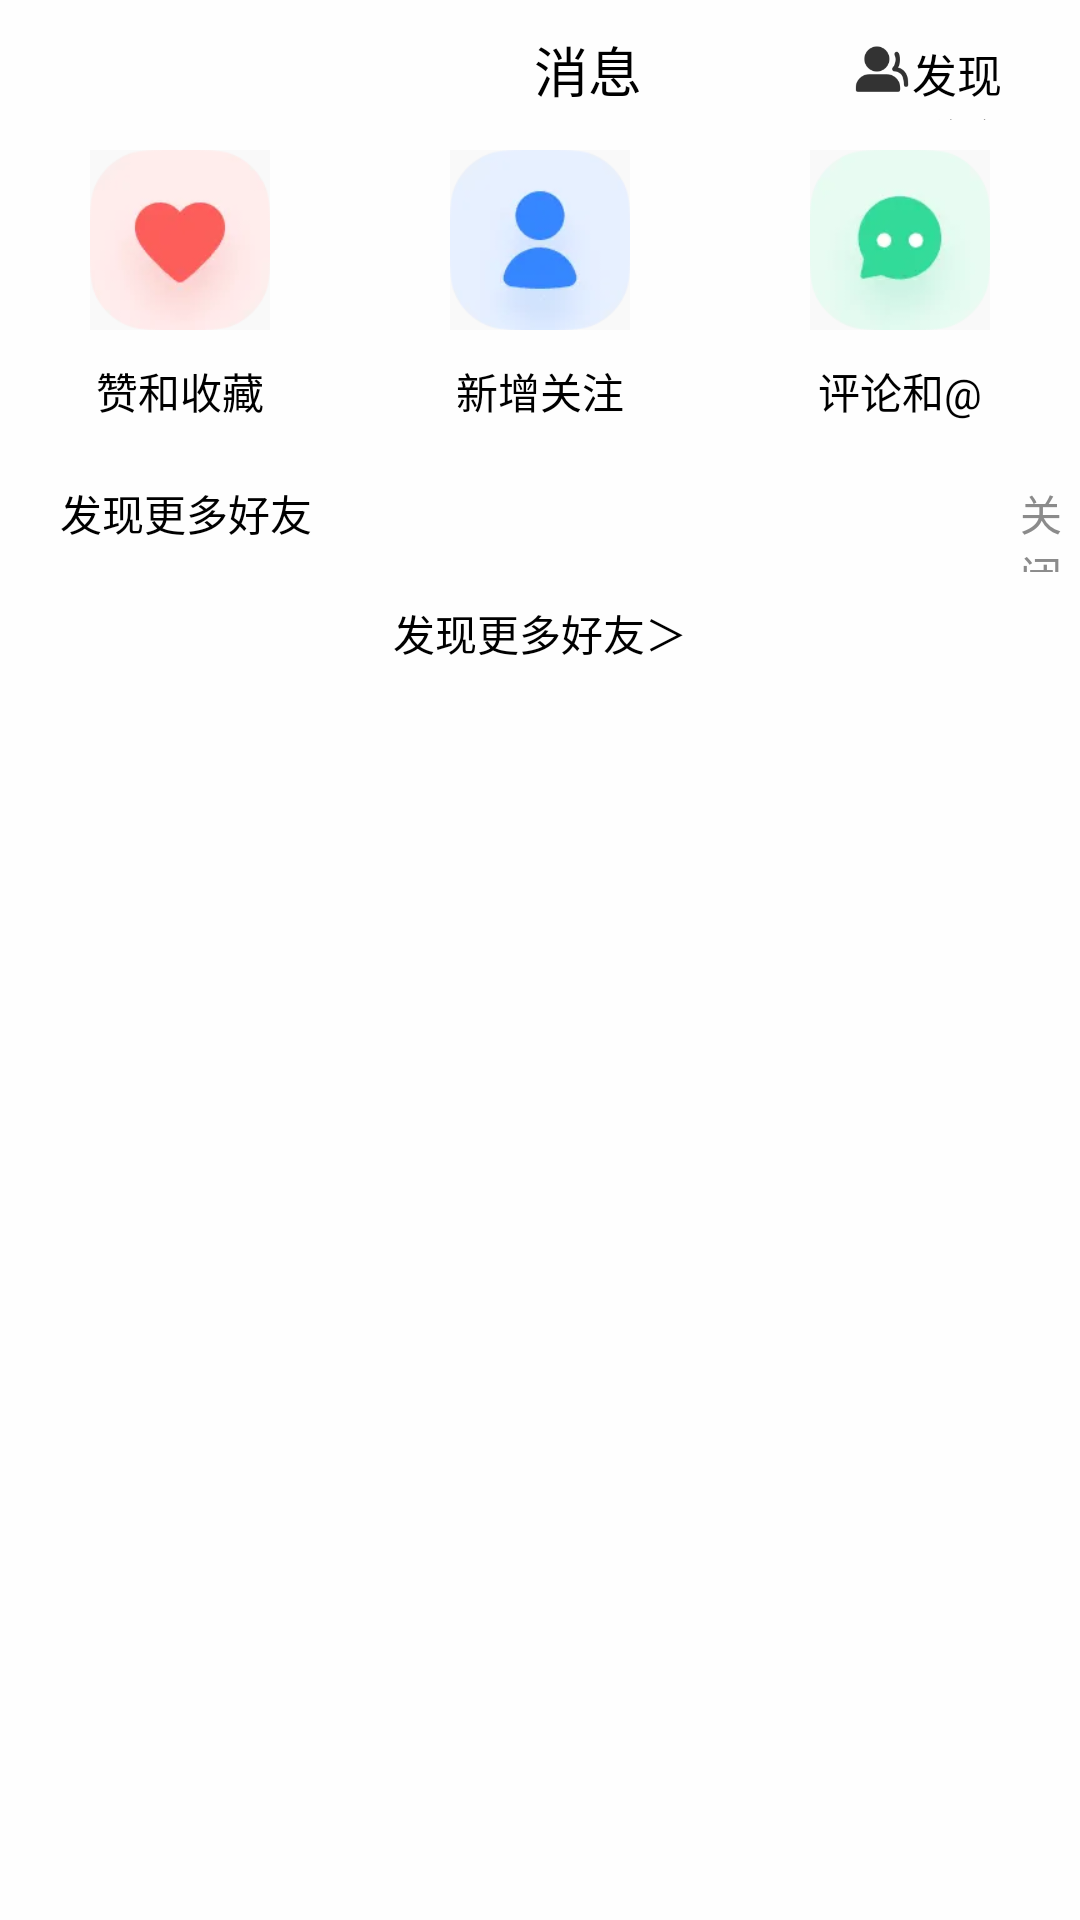

Icons on this 1080px x 1920px Android screen, each with its box as (x1, y1, x2, y2):
love and shoucang: (130, 202, 230, 310)
pic find group: (856, 46, 909, 92)
